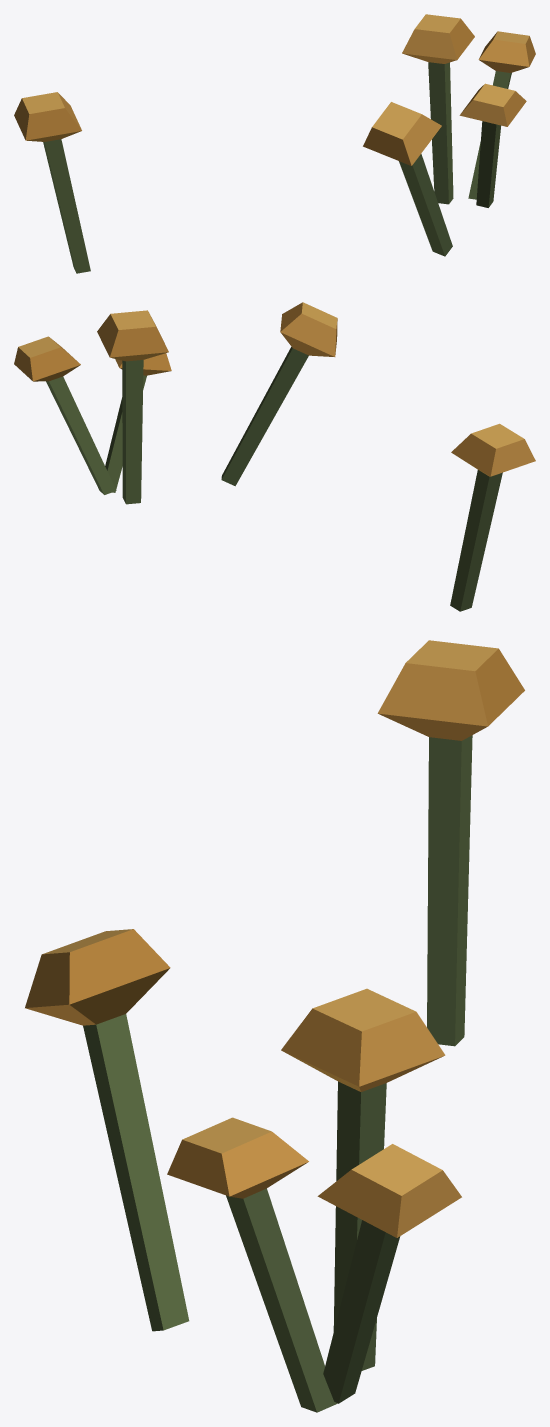
The model's file is NoCollisionMore_SF_Env_Elven_Flower_02.fbx.
The picture shows the model from 3 angles, top to bottom: view 1: azimuth 30°, elevation 25°; view 2: azimuth 150°, elevation 25°; view 3: azimuth 270°, elevation 25°; orthographic projection. The views are drawn at different scales.
Visible parts, largest first — view 1: SF_Env_Elven_Flower_02; view 2: SF_Env_Elven_Flower_02; view 3: SF_Env_Elven_Flower_02.
Part boxes in pixels (x1,y1,x2,y2): SF_Env_Elven_Flower_02: (14, 14, 535, 273); SF_Env_Elven_Flower_02: (14, 302, 535, 611); SF_Env_Elven_Flower_02: (25, 640, 524, 1412).
Size of the model in its own units: 261 by 90.37 by 112.
